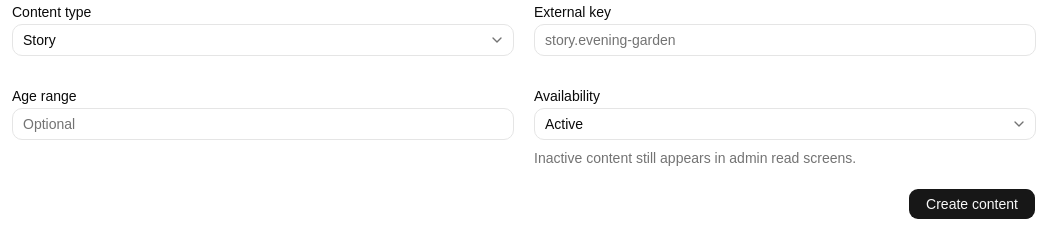
it: ContentForm › shows only canonical content type options
Click the dropdown named "content type" at (39, 40), box [12,24,514,56]
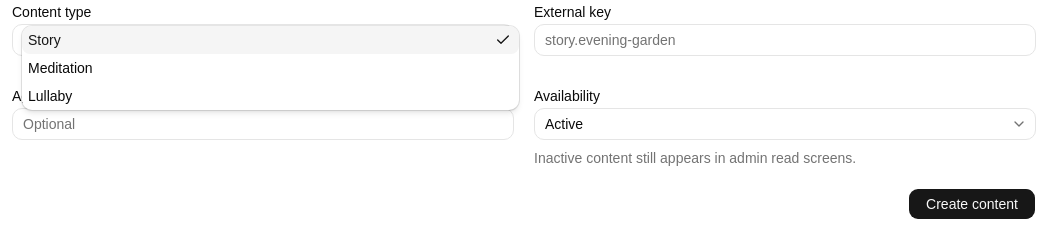
Expected: the option "Story" is shown, [22,26,519,54]
Expected: the option "Meditation" is shown, [28,60,93,76]
Expected: the option "Lullaby" is shown, [28,88,72,104]
